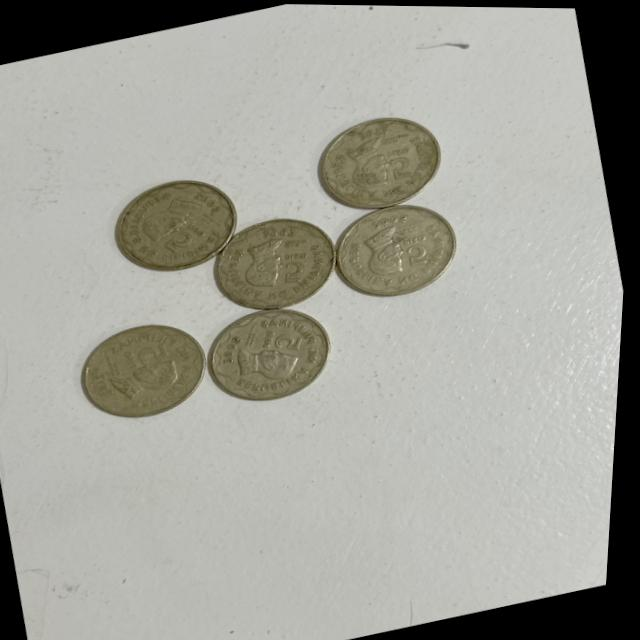5_Old_Front: (156, 212, 218, 258), (397, 214, 445, 271), (381, 130, 432, 183), (118, 333, 178, 374), (254, 317, 313, 358), (274, 240, 321, 290)
